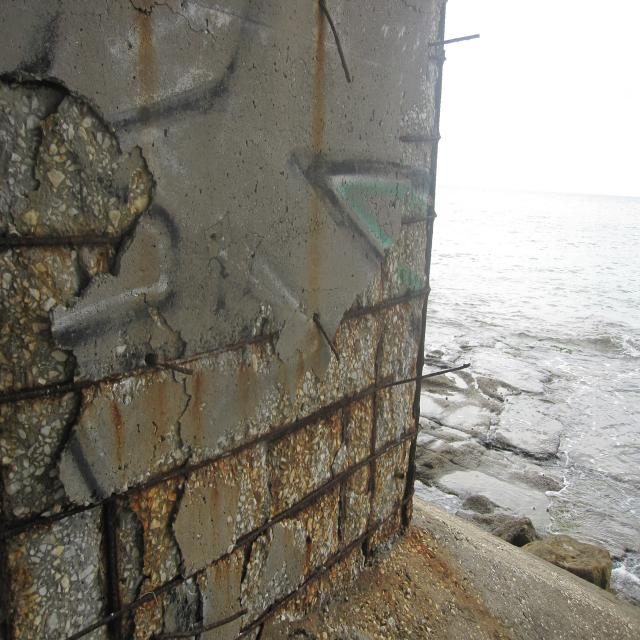corrosion: (0, 0, 516, 637)
